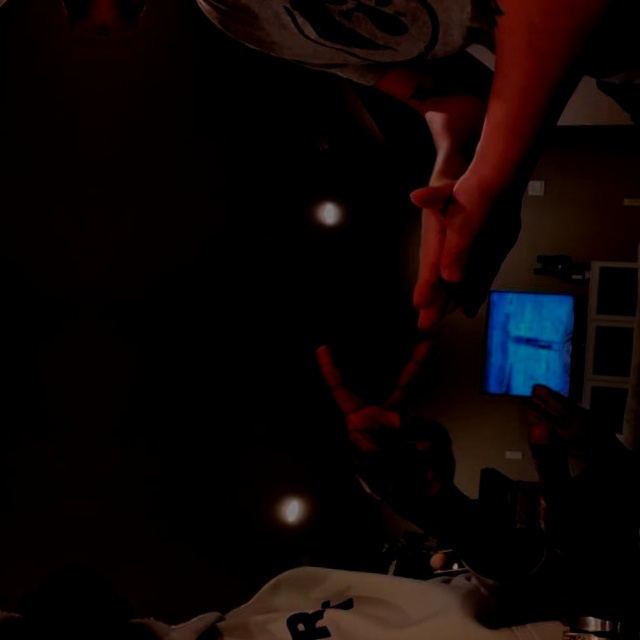Paper: (401, 177, 468, 333)
Scissors: (305, 337, 473, 511)
